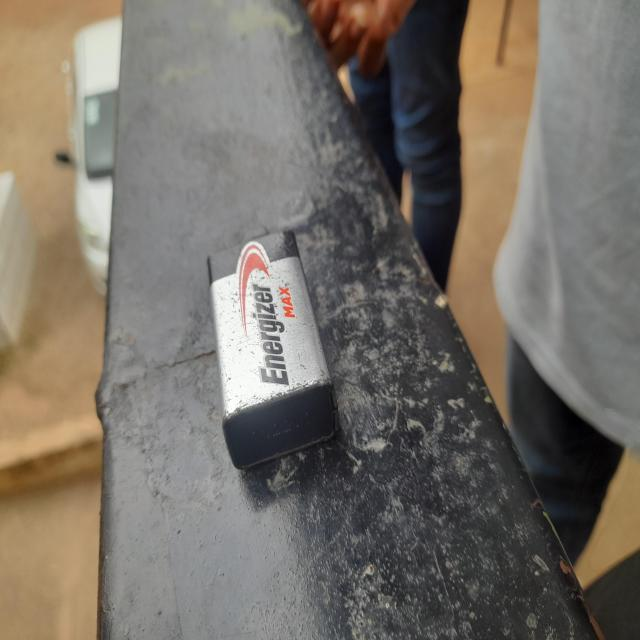9V: (194, 205, 352, 483)
